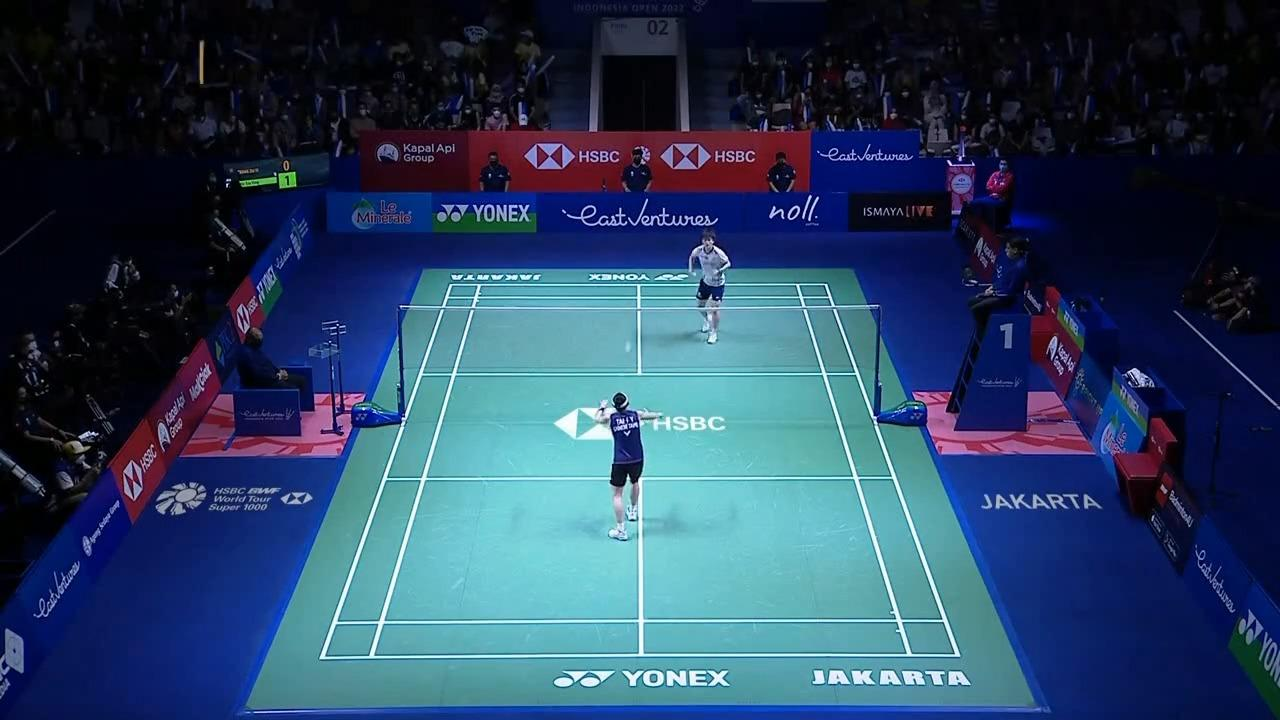shuttle: (623, 344, 633, 354)
